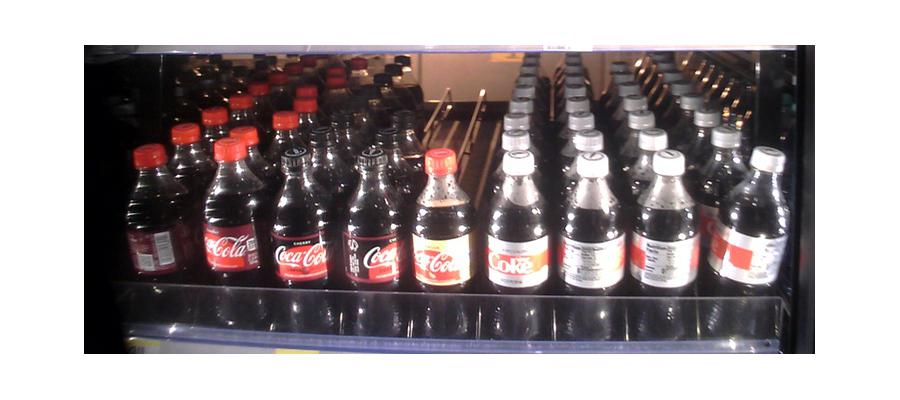bottle: (706, 147, 788, 347), (124, 142, 201, 328), (630, 150, 698, 338), (411, 147, 477, 338), (486, 145, 549, 340), (340, 146, 404, 337), (202, 135, 265, 329), (560, 148, 622, 338), (270, 140, 331, 332)
